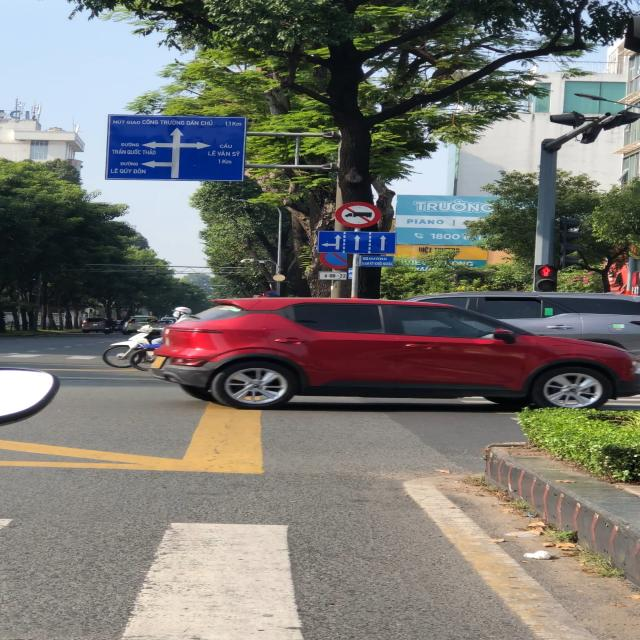Bien bao cam xe so-mi ro-mooc: (332, 201, 383, 229)
